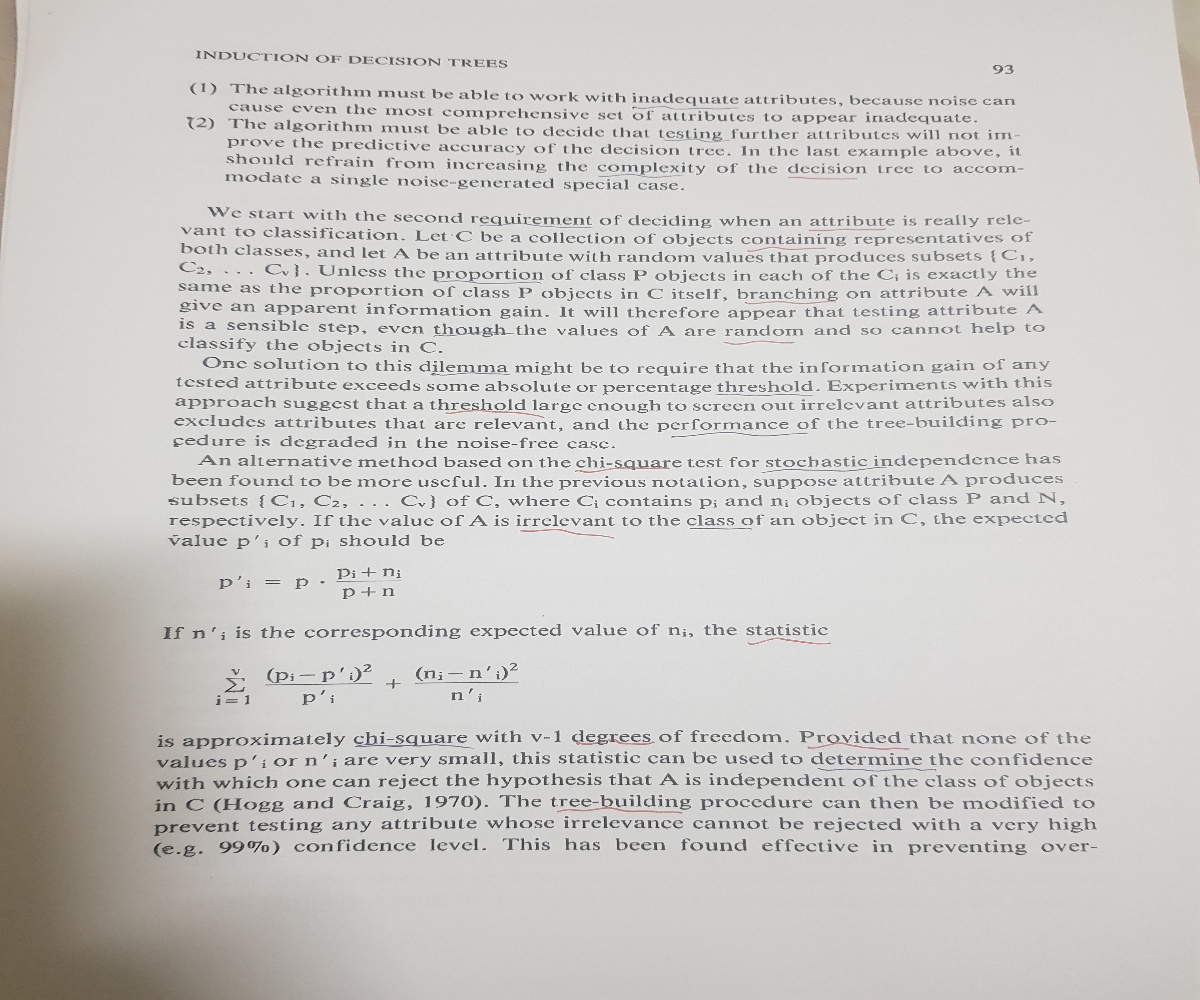underline: (555, 805, 690, 820), (354, 740, 474, 753), (444, 408, 547, 423), (518, 525, 619, 540), (819, 763, 938, 775), (670, 429, 808, 439), (805, 741, 909, 754), (787, 171, 862, 187), (758, 466, 889, 475), (433, 278, 549, 288), (574, 465, 676, 476), (630, 102, 739, 111), (722, 337, 800, 349), (746, 637, 830, 648), (715, 390, 816, 399), (740, 296, 836, 305), (572, 739, 656, 749), (478, 222, 592, 229), (431, 331, 518, 340), (744, 244, 826, 253), (598, 171, 689, 179), (686, 524, 756, 534), (429, 369, 513, 377), (807, 225, 889, 233), (661, 135, 731, 144)
